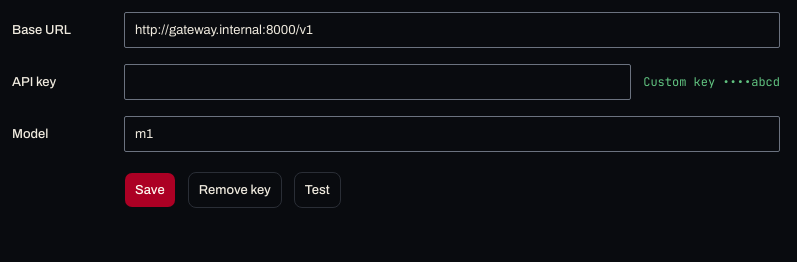
ConnectionForm › saves a typed key exactly once, in the body, and clears the field afterwards
The image size is (797, 262).
Expected: the field labelled "Base URL" is shown, [124,12,780,48]
Type "sk-secret-1" into the password field labelled "API key" at (378, 82), box [124,64,631,100]
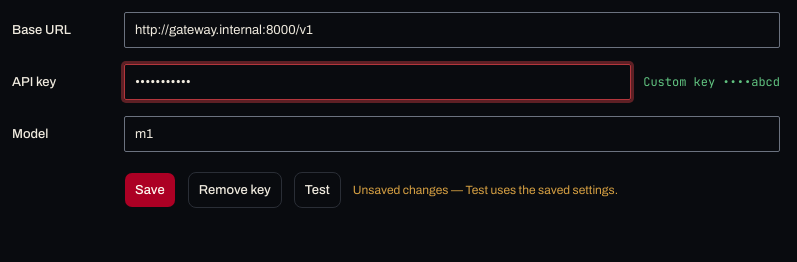
Click the button "Save" at (150, 190), box [124,172,176,208]
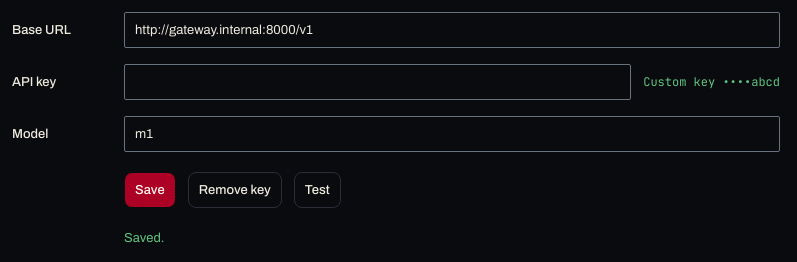
Expected: the text "Saved." is shown, [124,231,164,245]
Expected: the password field labelled "API key" is empty, [124,64,631,100]
